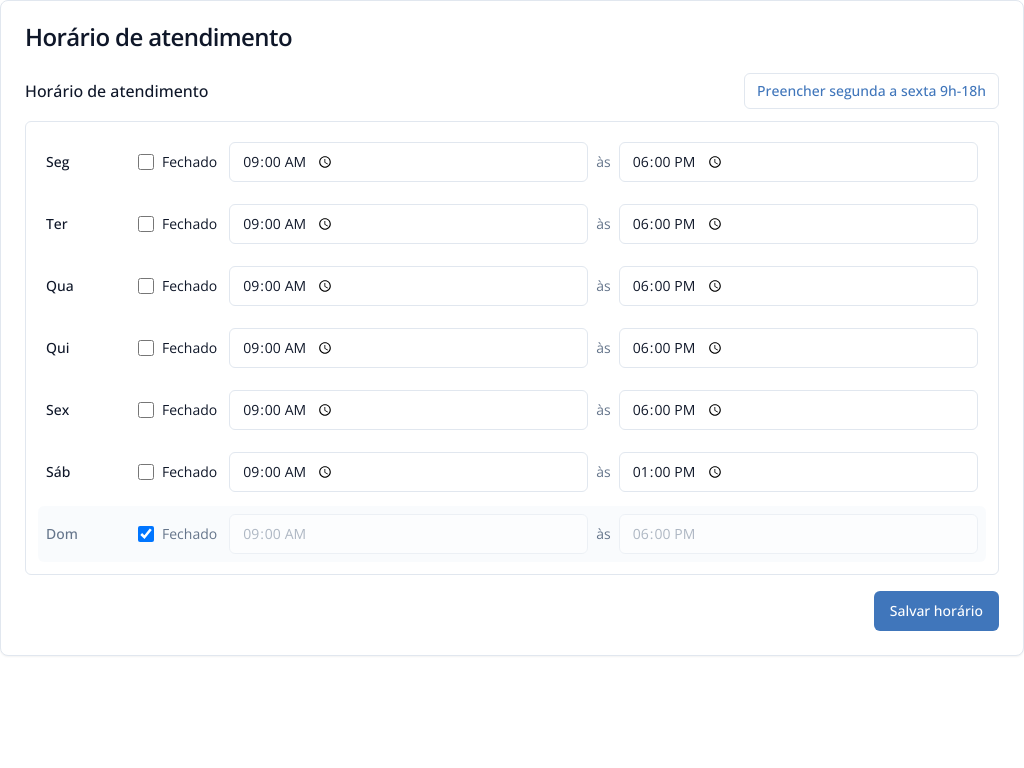
Test: WorkingHoursClient › salvar com sucesso: faz PUT com o horário e mostra confirmação
Click the button "Salvar horário" at (936, 611), box left=874, top=591, right=999, bottom=631
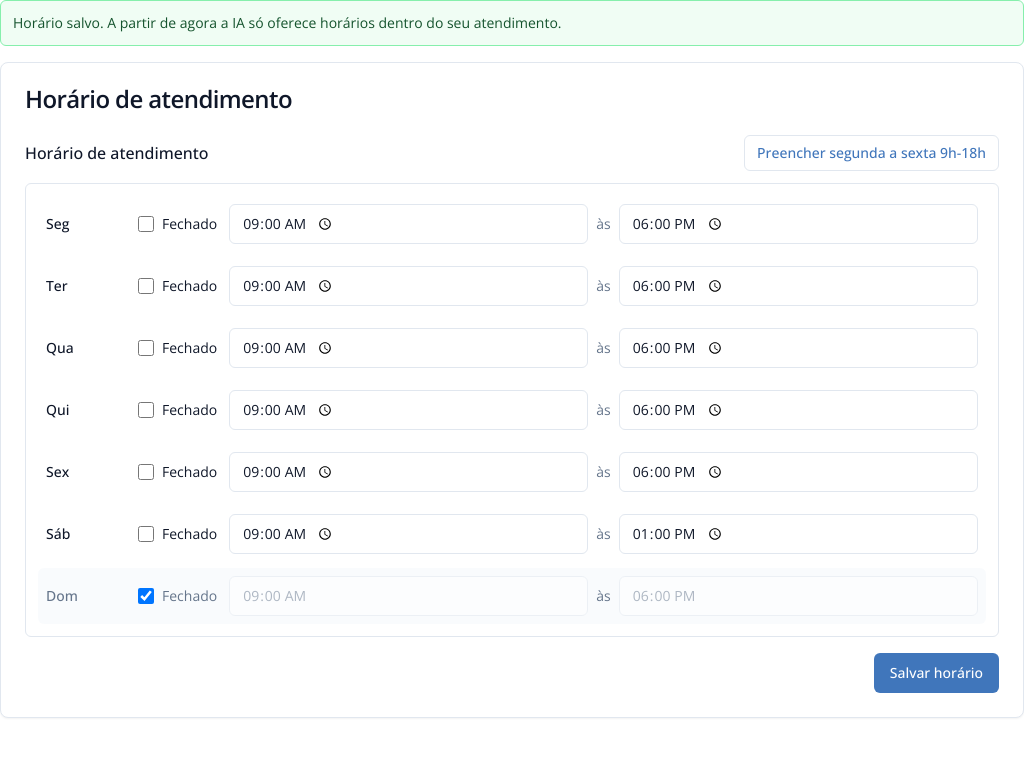
Expected: the text "Horário salvo" is shown, left=13, top=13, right=562, bottom=32
